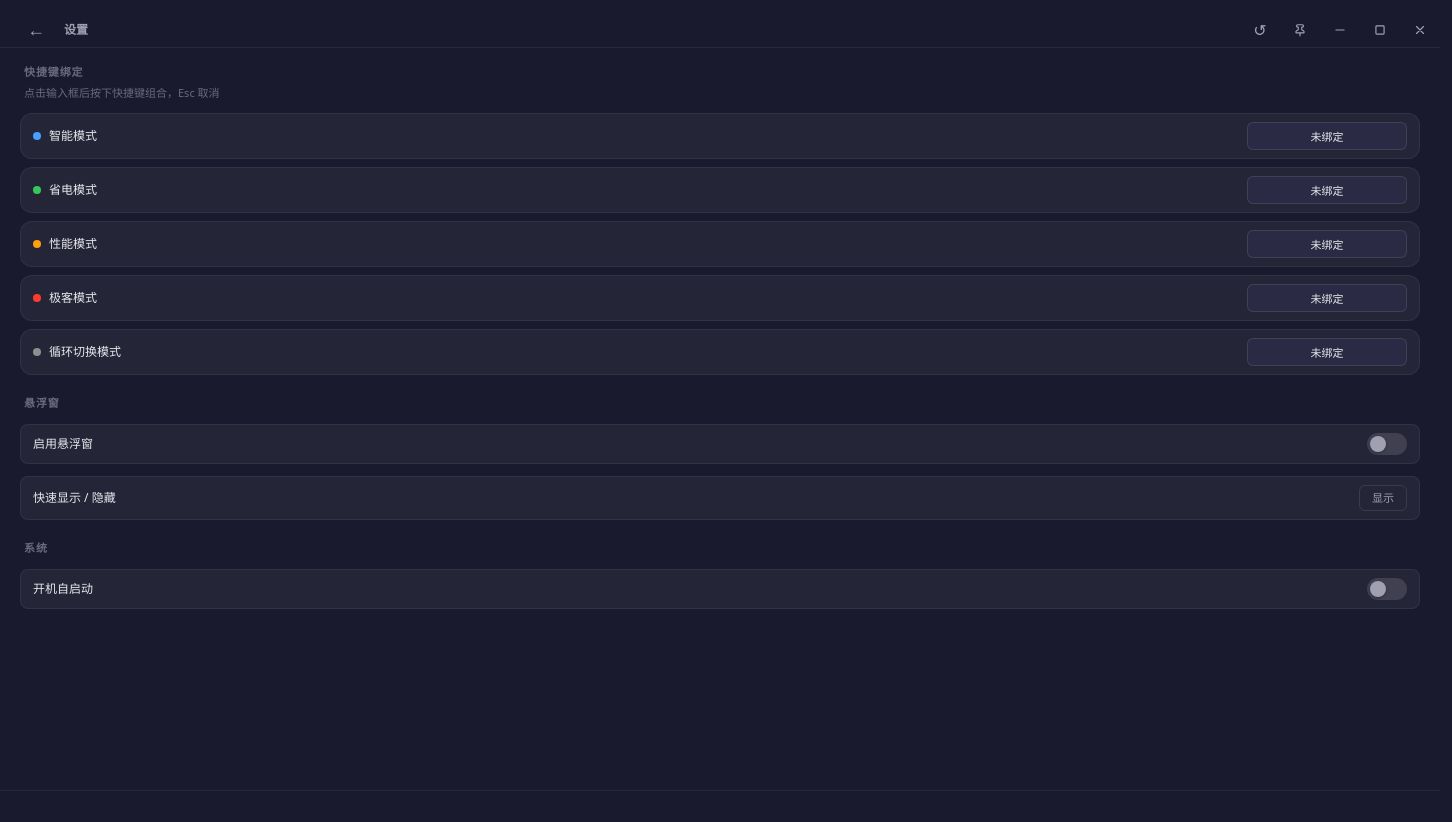
Test: Settings.vue - Error reporting › shows the floater toggle failure instead of a false '已保存'
The image size is (1452, 822).
Click the button with class "toggle" in the row of "启用悬浮窗". click: (1387, 444)
box: [1367,432,1407,454]
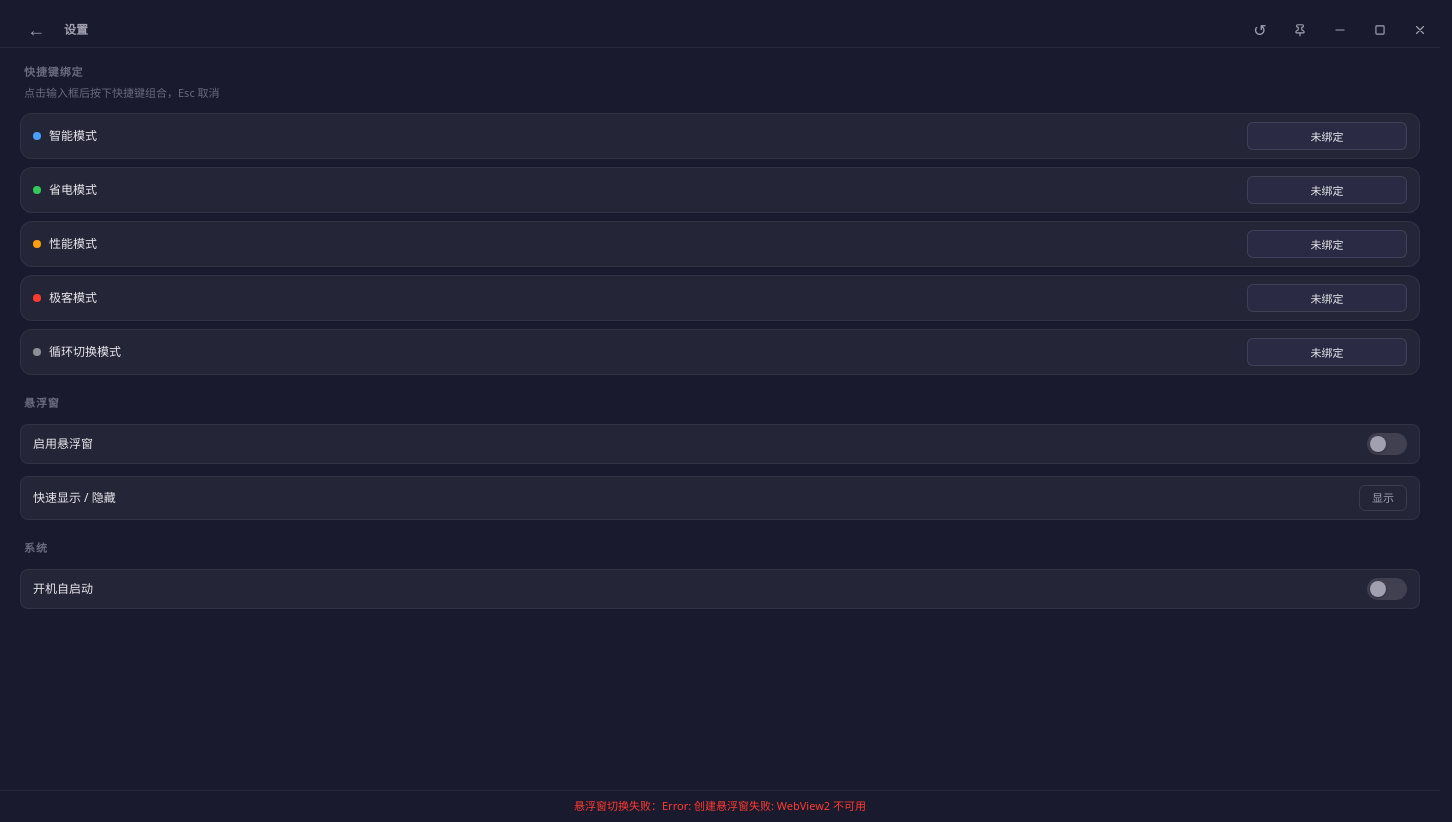
Now the text "悬浮窗切换失败：Error: 创建悬浮窗失败: WebView2 不可用" is shown, box [574,799,866,814]
Now the text with class "error-indicator" shows "悬浮窗切换失败", box [574,798,866,813]
Now the text with class "error-indicator" shows "WebView2 不可用", box [574,798,866,813]
